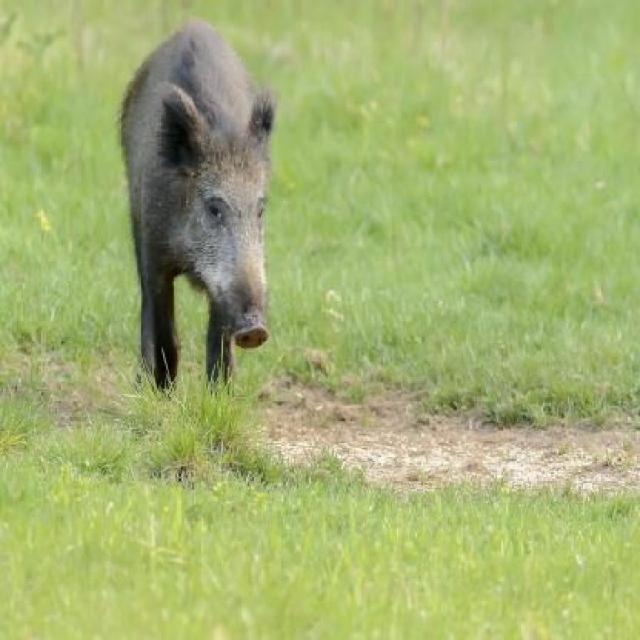wildboar: (113, 17, 282, 406)
